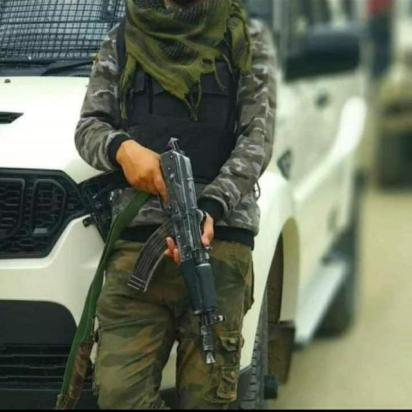Gun: (124, 135, 230, 368)
